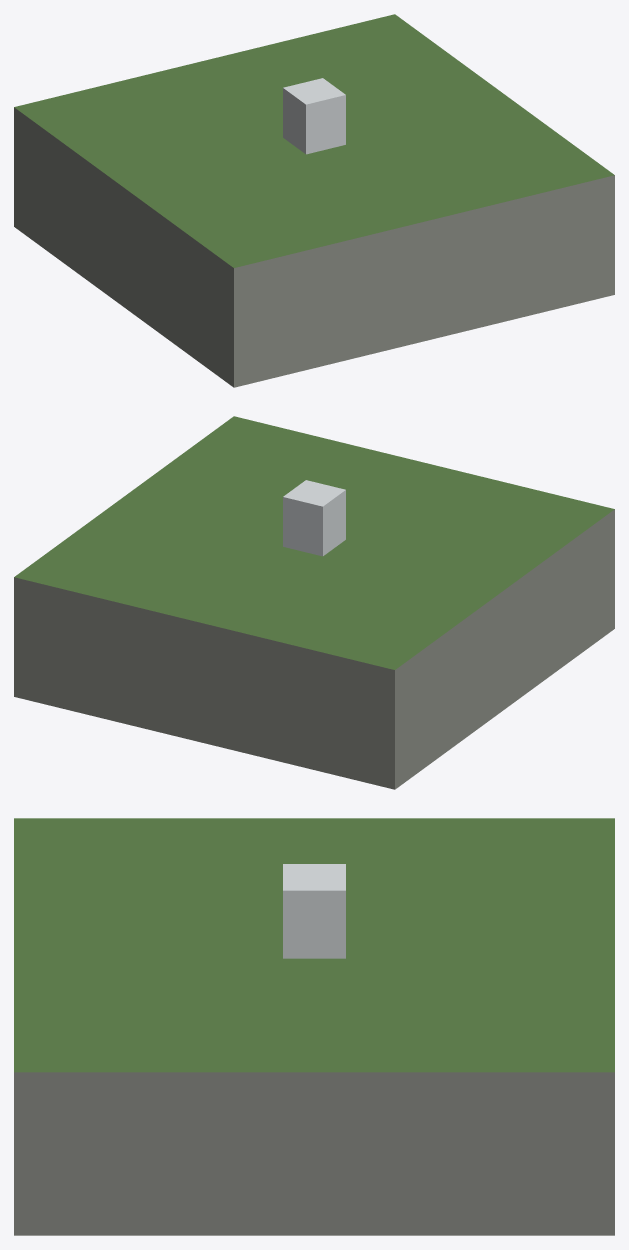
The model's file is mashup-reservoir-far.fbx.
3 views of the same model, one above another, from view 1: azimuth 30°, elevation 25°; view 2: azimuth 150°, elevation 25°; view 3: azimuth 270°, elevation 25° (orthographic). The views are drawn at different scales.
Visible parts, largest first — view 1: a1063/0/mashup-reservoir-far; view 2: a1063/0/mashup-reservoir-far; view 3: a1063/0/mashup-reservoir-far.
Part boxes in pixels (x1,y1,x2,y2): a1063/0/mashup-reservoir-far: (14, 14, 614, 387); a1063/0/mashup-reservoir-far: (14, 416, 614, 789); a1063/0/mashup-reservoir-far: (14, 818, 614, 1235).
Bounding box in the file's own units: 8 × 3.4 × 8.
